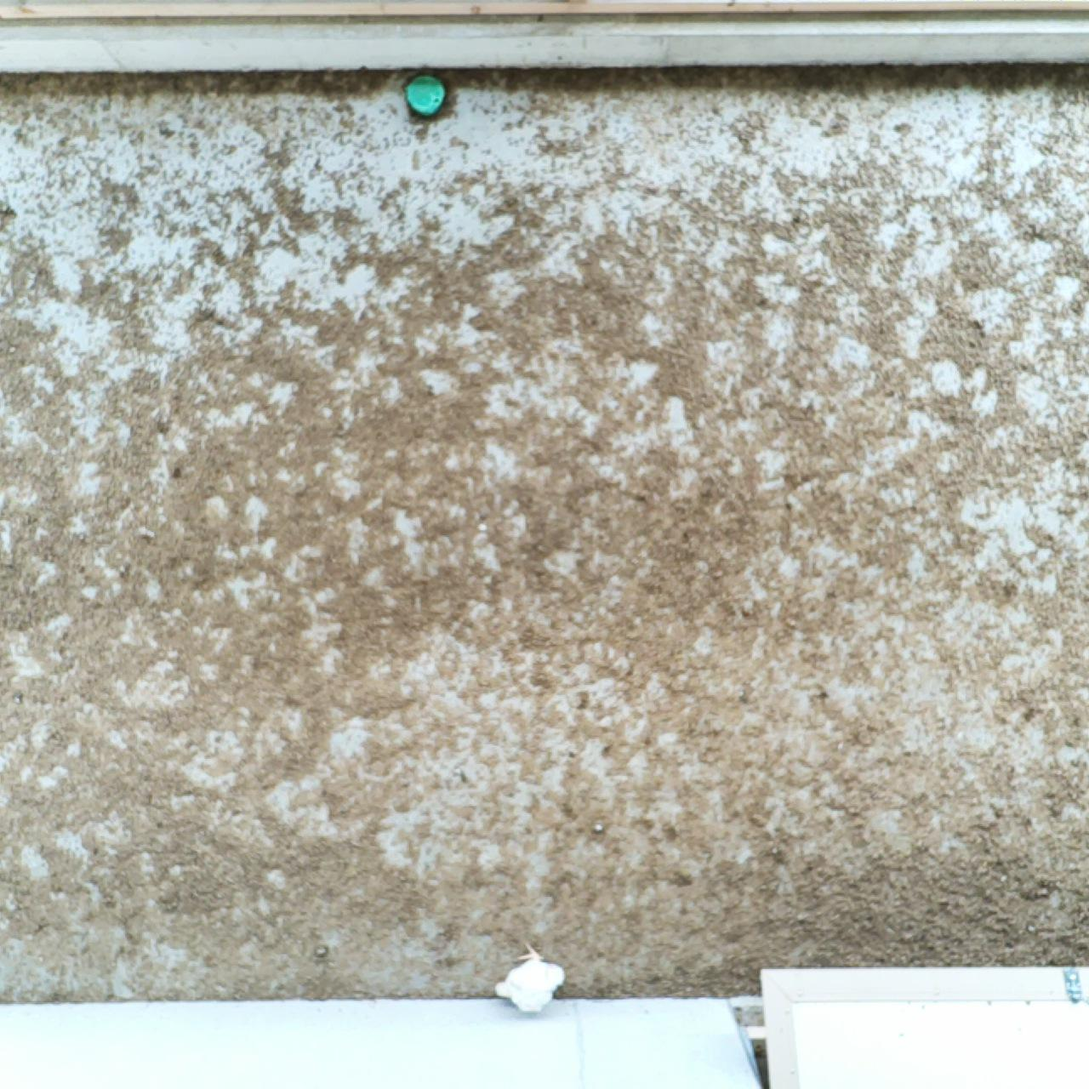chicken: (493, 944, 567, 1014)
